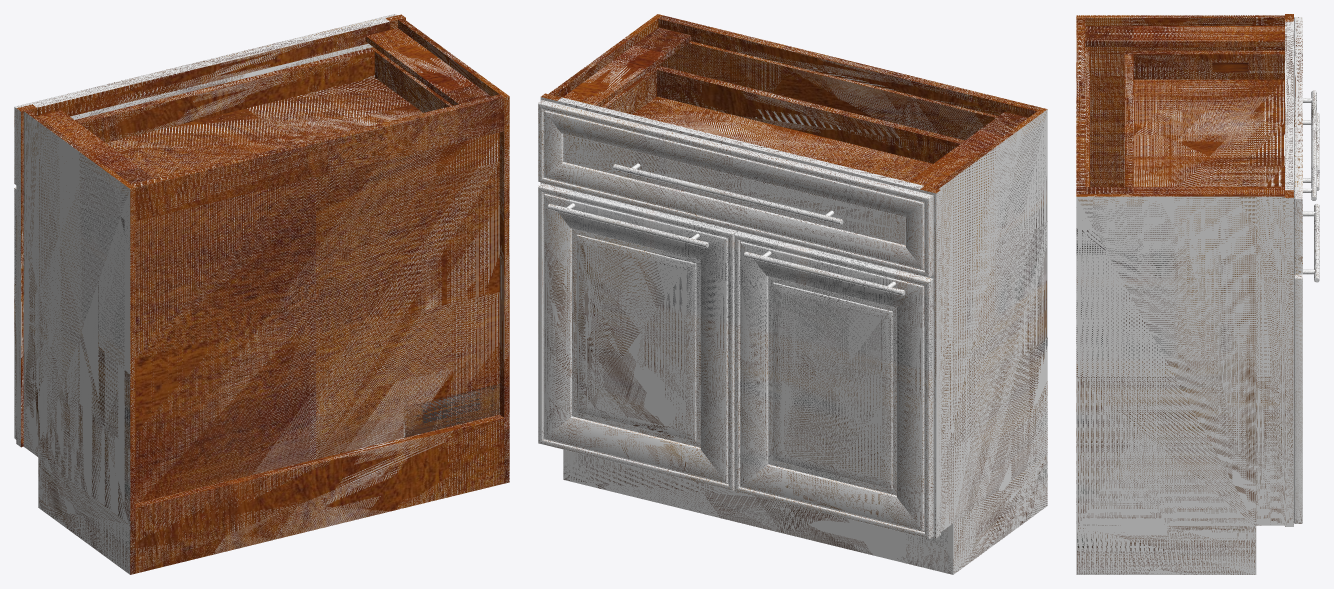
3 renders of one model, left to right at view 1: azimuth 30°, elevation 25°; view 2: azimuth 150°, elevation 25°; view 3: azimuth 270°, elevation 25°, orthographic. The views are drawn at different scales.
Parts seen in each view (by area): view 1: mesh5_mesh5-geometry, mesh8_mesh8-geometry, mesh13_mesh13-geometry, mesh4_mesh4-geometry, mesh20_mesh20-geometry, mesh18_mesh18-geometry, mesh6_mesh6-geometry, mesh7_mesh7-geometry, mesh9_mesh9-geometry, mesh11_mesh11-geometry, mesh15_mesh15-geometry, mesh3_mesh3-geometry (+4 smaller); view 2: mesh8_mesh8-geometry, mesh39_mesh39-geometry, mesh49_mesh49-geometry, mesh14_mesh14-geometry, mesh5_mesh5-geometry, mesh28_mesh28-geometry, mesh18_mesh18-geometry, mesh29_mesh29-geometry, mesh57_mesh57-geometry, mesh43_mesh43-geometry, mesh56_mesh56-geometry, mesh42_mesh42-geometry (+32 smaller); view 3: mesh11_mesh11-geometry, mesh20_mesh20-geometry, mesh10_mesh10-geometry, mesh12_mesh12-geometry, mesh8_mesh8-geometry, mesh17_mesh17-geometry, mesh16_mesh16-geometry, mesh3_mesh3-geometry, mesh4_mesh4-geometry, mesh15_mesh15-geometry, mesh6_mesh6-geometry, mesh42_mesh42-geometry (+10 smaller).
Boxes of the visible parts, left/top/right/bottom form: mesh5_mesh5-geometry: left=135, top=132, right=499, bottom=503; mesh8_mesh8-geometry: left=38, top=120, right=135, bottom=524; mesh13_mesh13-geometry: left=135, top=414, right=504, bottom=573; mesh4_mesh4-geometry: left=131, top=94, right=504, bottom=220; mesh20_mesh20-geometry: left=106, top=77, right=422, bottom=178; mesh18_mesh18-geometry: left=75, top=48, right=374, bottom=142; mesh6_mesh6-geometry: left=33, top=18, right=389, bottom=116; mesh7_mesh7-geometry: left=23, top=110, right=43, bottom=456; mesh9_mesh9-geometry: left=38, top=457, right=135, bottom=574; mesh11_mesh11-geometry: left=412, top=29, right=509, bottom=433; mesh15_mesh15-geometry: left=366, top=28, right=490, bottom=105; mesh3_mesh3-geometry: left=16, top=14, right=405, bottom=447; mesh8_mesh8-geometry: left=948, top=108, right=1047, bottom=522; mesh39_mesh39-geometry: left=586, top=246, right=685, bottom=430; mesh49_mesh49-geometry: left=783, top=294, right=881, bottom=478; mesh14_mesh14-geometry: left=568, top=451, right=947, bottom=573; mesh5_mesh5-geometry: left=658, top=41, right=997, bottom=140; mesh28_mesh28-geometry: left=576, top=109, right=894, bottom=214; mesh18_mesh18-geometry: left=657, top=66, right=964, bottom=163; mesh29_mesh29-geometry: left=576, top=163, right=892, bottom=267; mesh57_mesh57-geometry: left=882, top=318, right=933, bottom=490; mesh43_mesh43-geometry: left=685, top=270, right=734, bottom=442; mesh56_mesh56-geometry: left=734, top=283, right=782, bottom=454; mesh42_mesh42-geometry: left=538, top=235, right=586, bottom=406; mesh11_mesh11-geometry: left=1076, top=194, right=1256, bottom=525; mesh20_mesh20-geometry: left=1133, top=79, right=1284, bottom=186; mesh10_mesh10-geometry: left=1256, top=194, right=1284, bottom=525; mesh12_mesh12-geometry: left=1076, top=525, right=1256, bottom=574; mesh8_mesh8-geometry: left=1076, top=15, right=1256, bottom=186; mesh17_mesh17-geometry: left=1124, top=50, right=1284, bottom=79; mesh16_mesh16-geometry: left=1085, top=26, right=1284, bottom=46; mesh3_mesh3-geometry: left=1285, top=14, right=1293, bottom=526; mesh4_mesh4-geometry: left=1076, top=18, right=1085, bottom=194; mesh15_mesh15-geometry: left=1085, top=187, right=1284, bottom=194; mesh6_mesh6-geometry: left=1285, top=21, right=1293, bottom=190; mesh42_mesh42-geometry: left=1294, top=324, right=1302, bottom=477.
Bounding box in the file's own units: 0.6695 × 0.6416 × 0.3743.
